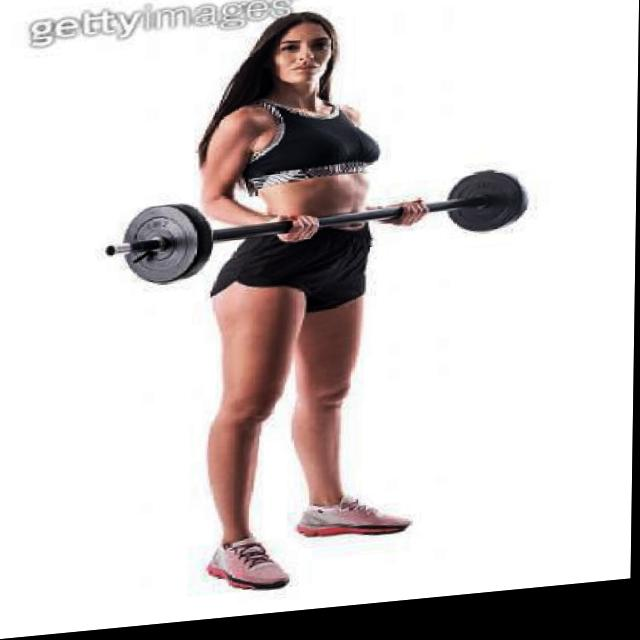barbell: (93, 202, 211, 299)
